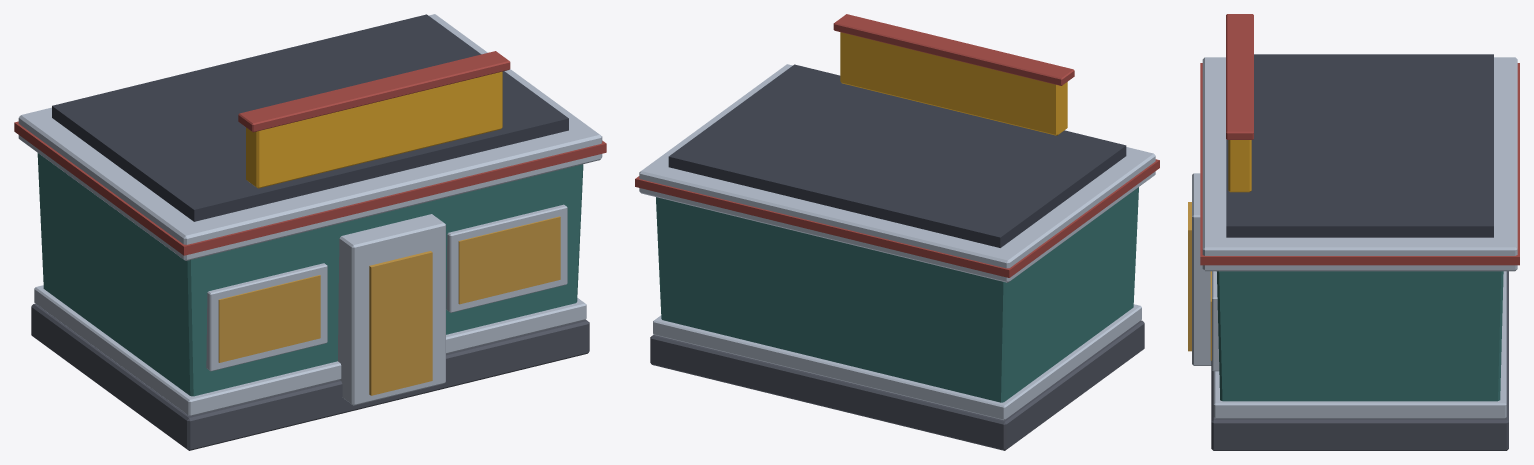
Rendered from Stylized_Landmark_DinerRetro.fbx.
3 views of the same model, side by side, from view 1: azimuth 30°, elevation 25°; view 2: azimuth 150°, elevation 25°; view 3: azimuth 270°, elevation 25° (orthographic). The views are drawn at different scales.
Parts seen in each view (by area): view 1: Stylized_Landmark_DinerRetro; view 2: Stylized_Landmark_DinerRetro; view 3: Stylized_Landmark_DinerRetro.
Boxes of the visible parts, x1=… form: Stylized_Landmark_DinerRetro: x1=14, y1=14, x2=606, y2=450; Stylized_Landmark_DinerRetro: x1=635, y1=14, x2=1159, y2=450; Stylized_Landmark_DinerRetro: x1=1188, y1=14, x2=1519, y2=450.
Bounding box in the file's own units: 5.92 × 4.08 × 4.28.
